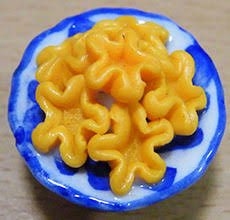tongyip: (86, 96, 168, 192), (31, 78, 109, 171), (88, 26, 161, 101)
